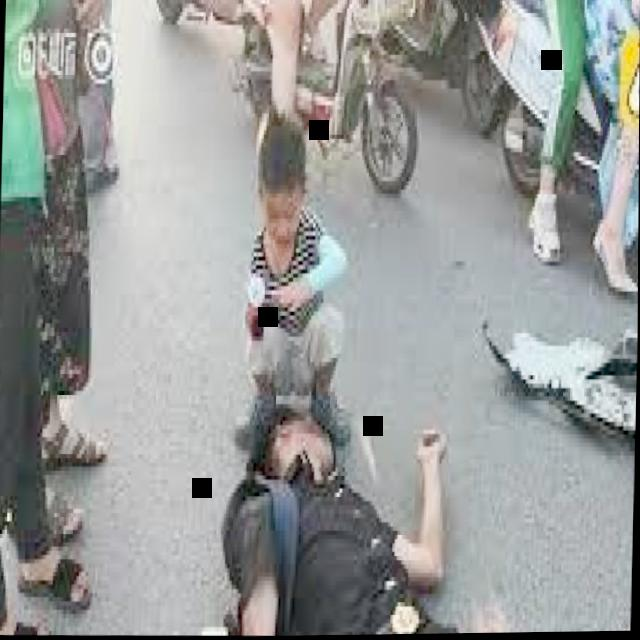Fall-Detected: (228, 365, 637, 637)
